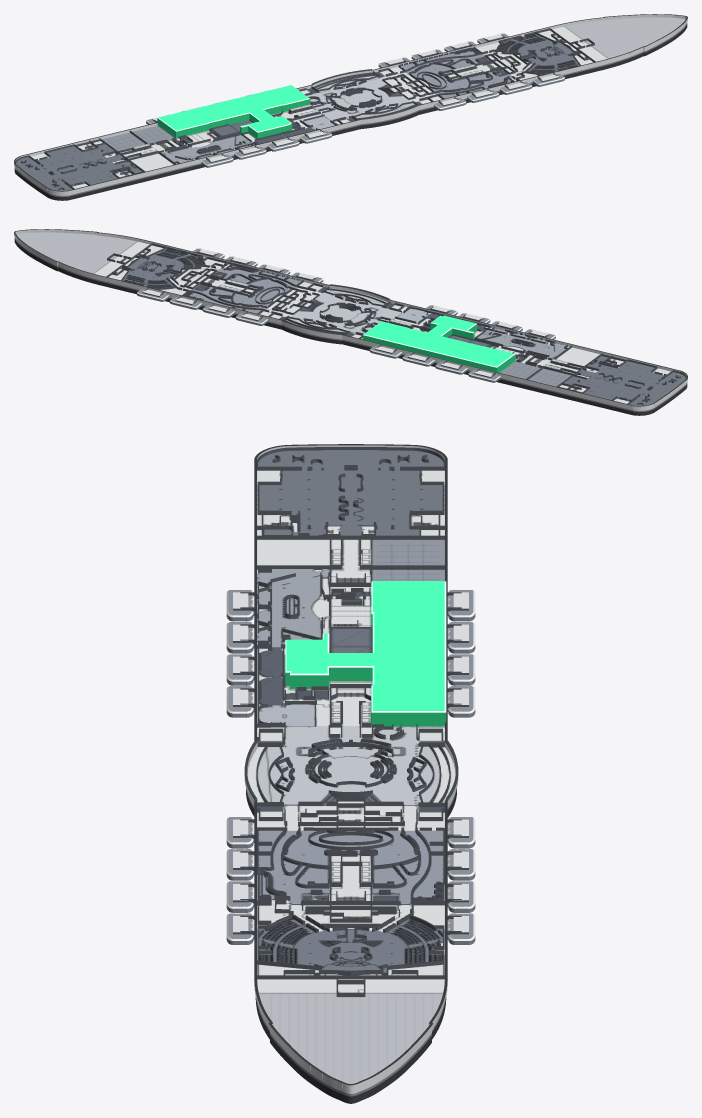
File: Deck6_Arlecchino_Highlight.glb
3 renders of one model, top to bottom at view 1: azimuth 30°, elevation 25°; view 2: azimuth 150°, elevation 25°; view 3: azimuth 270°, elevation 25°, orthographic. The views are drawn at different scales.
Visible parts, largest first — view 1: Deck6_Arlecchino_Main_Floor_Slab, Deck6_Arlecchino_Interior_Walls_Monochrome, Deck6_Arlecchino_MDR_Embossed_Highlight_Block, Deck6_Arlecchino_Outer_Hull_Bulwark_Wall, Deck6_Arlecchino_ZoneRelief_Il_Meneghino, Deck6_Arlecchino_ZoneRelief_Colosseo, Deck6_Arlecchino_Hull_Plinth_Obsidian, Deck6_Arlecchino_ZoneRelief_Mastroianni_Bar, Deck6_Arlecchino_ZoneRelief_Sanremo_Theatre, Deck6_Arlecchino_ZoneRelief_Jazz_Club, Deck6_Arlecchino_Hull_Waterline_Titanium; view 2: Deck6_Arlecchino_Interior_Walls_Monochrome, Deck6_Arlecchino_Main_Floor_Slab, Deck6_Arlecchino_Outer_Hull_Bulwark_Wall, Deck6_Arlecchino_MDR_Embossed_Highlight_Block, Deck6_Arlecchino_ZoneRelief_Il_Meneghino, Deck6_Arlecchino_ZoneRelief_Colosseo, Deck6_Arlecchino_Hull_Plinth_Obsidian, Deck6_Arlecchino_ZoneRelief_Mastroianni_Bar, Deck6_Arlecchino_ZoneRelief_Sanremo_Theatre, Deck6_Arlecchino_ZoneRelief_Jazz_Club, Deck6_Arlecchino_Hull_Waterline_Titanium; view 3: Deck6_Arlecchino_Main_Floor_Slab, Deck6_Arlecchino_Interior_Walls_Monochrome, Deck6_Arlecchino_MDR_Embossed_Highlight_Block, Deck6_Arlecchino_ZoneRelief_Il_Meneghino, Deck6_Arlecchino_ZoneRelief_Colosseo, Deck6_Arlecchino_ZoneRelief_Mastroianni_Bar, Deck6_Arlecchino_ZoneRelief_Sanremo_Theatre, Deck6_Arlecchino_Outer_Hull_Bulwark_Wall, Deck6_Arlecchino_ZoneRelief_Jazz_Club, Deck6_Arlecchino_Hull_Plinth_Obsidian, Deck6_Arlecchino_ZoneRelief_Photo_Store, Deck6_Arlecchino_ZoneRelief_My_Tours (+1 smaller).
Part boxes in pixels (x1,y1,x2,y2): Deck6_Arlecchino_Main_Floor_Slab: (14, 17, 687, 195); Deck6_Arlecchino_Interior_Walls_Monochrome: (15, 28, 595, 190); Deck6_Arlecchino_MDR_Embossed_Highlight_Block: (157, 85, 310, 138); Deck6_Arlecchino_Outer_Hull_Bulwark_Wall: (14, 14, 687, 194); Deck6_Arlecchino_ZoneRelief_Il_Meneghino: (16, 144, 141, 190); Deck6_Arlecchino_ZoneRelief_Colosseo: (307, 75, 414, 120); Deck6_Arlecchino_Hull_Plinth_Obsidian: (14, 24, 687, 200); Deck6_Arlecchino_ZoneRelief_Mastroianni_Bar: (400, 50, 512, 98); Deck6_Arlecchino_ZoneRelief_Sanremo_Theatre: (498, 33, 579, 74); Deck6_Arlecchino_ZoneRelief_Jazz_Club: (161, 135, 252, 162); Deck6_Arlecchino_Hull_Waterline_Titanium: (14, 23, 687, 197); Deck6_Arlecchino_Interior_Walls_Monochrome: (106, 243, 686, 405); Deck6_Arlecchino_Main_Floor_Slab: (14, 232, 687, 410); Deck6_Arlecchino_Outer_Hull_Bulwark_Wall: (14, 229, 687, 409); Deck6_Arlecchino_MDR_Embossed_Highlight_Block: (362, 315, 515, 372); Deck6_Arlecchino_ZoneRelief_Il_Meneghino: (564, 356, 685, 405); Deck6_Arlecchino_ZoneRelief_Colosseo: (288, 290, 401, 333); Deck6_Arlecchino_Hull_Plinth_Obsidian: (14, 239, 687, 415); Deck6_Arlecchino_ZoneRelief_Mastroianni_Bar: (190, 265, 301, 313); Deck6_Arlecchino_ZoneRelief_Sanremo_Theatre: (122, 248, 203, 288); Deck6_Arlecchino_ZoneRelief_Jazz_Club: (477, 328, 565, 359); Deck6_Arlecchino_Hull_Waterline_Titanium: (14, 238, 687, 412); Deck6_Arlecchino_Main_Floor_Slab: (247, 470, 455, 1093); Deck6_Arlecchino_Interior_Walls_Monochrome: (256, 447, 450, 996); Deck6_Arlecchino_MDR_Embossed_Highlight_Block: (285, 581, 446, 726); Deck6_Arlecchino_ZoneRelief_Il_Meneghino: (258, 450, 443, 535); Deck6_Arlecchino_ZoneRelief_Colosseo: (257, 726, 439, 805); Deck6_Arlecchino_ZoneRelief_Mastroianni_Bar: (258, 830, 443, 904); Deck6_Arlecchino_ZoneRelief_Sanremo_Theatre: (258, 918, 443, 974); Deck6_Arlecchino_Outer_Hull_Bulwark_Wall: (244, 444, 458, 1090); Deck6_Arlecchino_ZoneRelief_Jazz_Club: (257, 569, 329, 647); Deck6_Arlecchino_Hull_Plinth_Obsidian: (246, 788, 456, 1103); Deck6_Arlecchino_ZoneRelief_Photo_Store: (259, 647, 283, 706); Deck6_Arlecchino_ZoneRelief_My_Tours: (259, 704, 314, 726).
Bounding box in the file's own units: 67.45 × 1.46 × 11.05.
18 materials, 2 textured.
